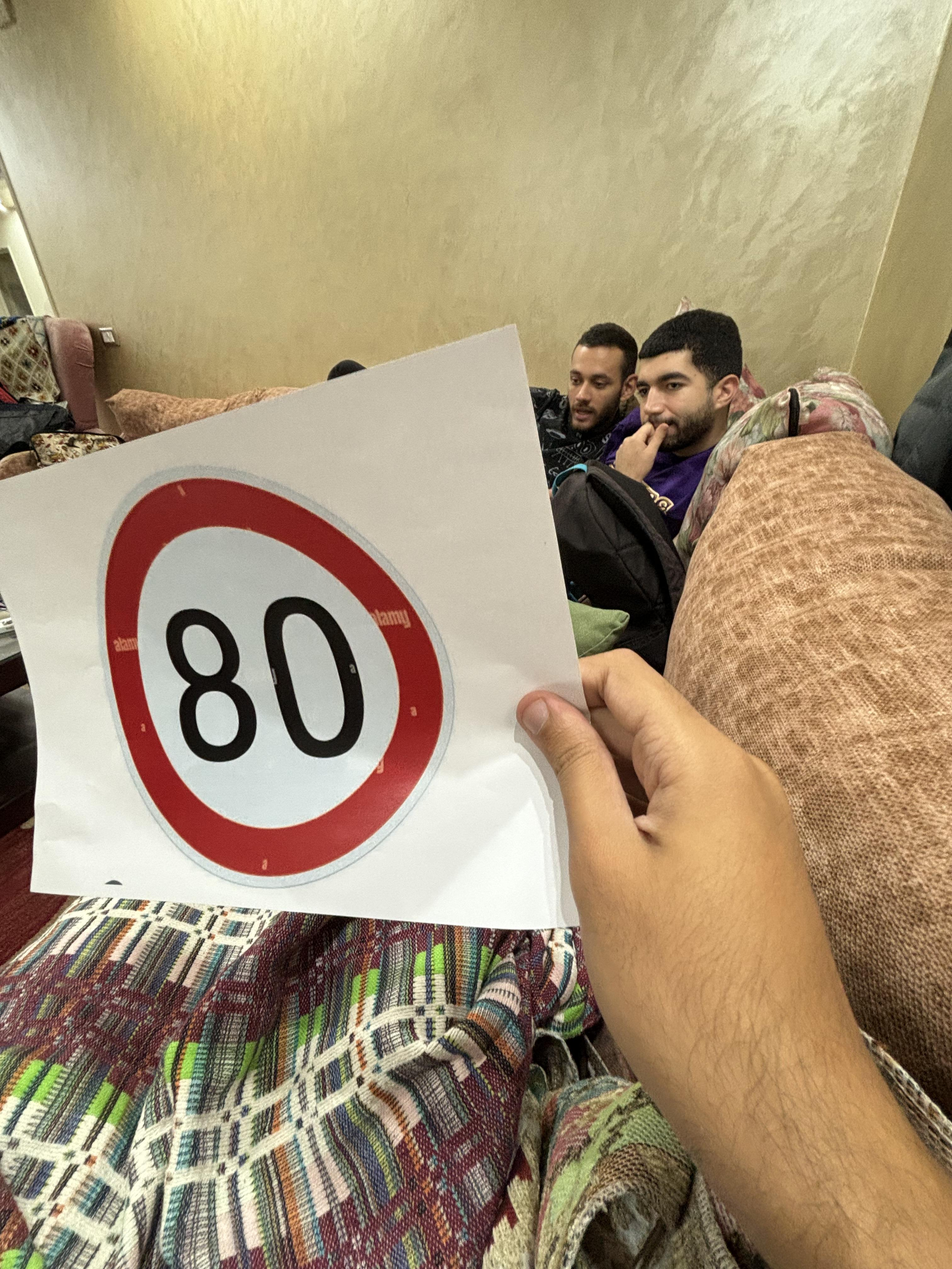80-Speed: (73, 470, 462, 898)
